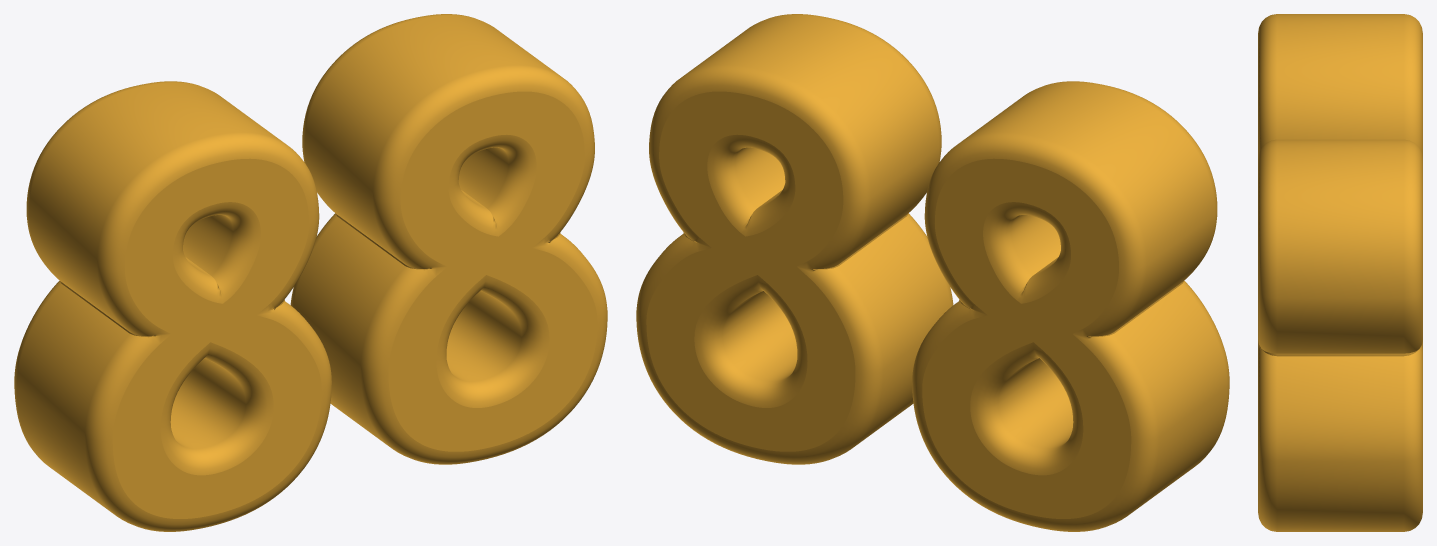
3 views of the same model, side by side, from view 1: azimuth 30°, elevation 25°; view 2: azimuth 150°, elevation 25°; view 3: azimuth 270°, elevation 25° (orthographic). The views are drawn at different scales.
Visible parts, largest first — view 1: Text; view 2: Text; view 3: Text.
Boxes of the visible parts, x1=… form: Text: x1=14, y1=14, x2=607, y2=531; Text: x1=636, y1=14, x2=1229, y2=531; Text: x1=1258, y1=14, x2=1422, y2=531.
Size of the model in its own units: 88.42 by 63.02 by 26.
